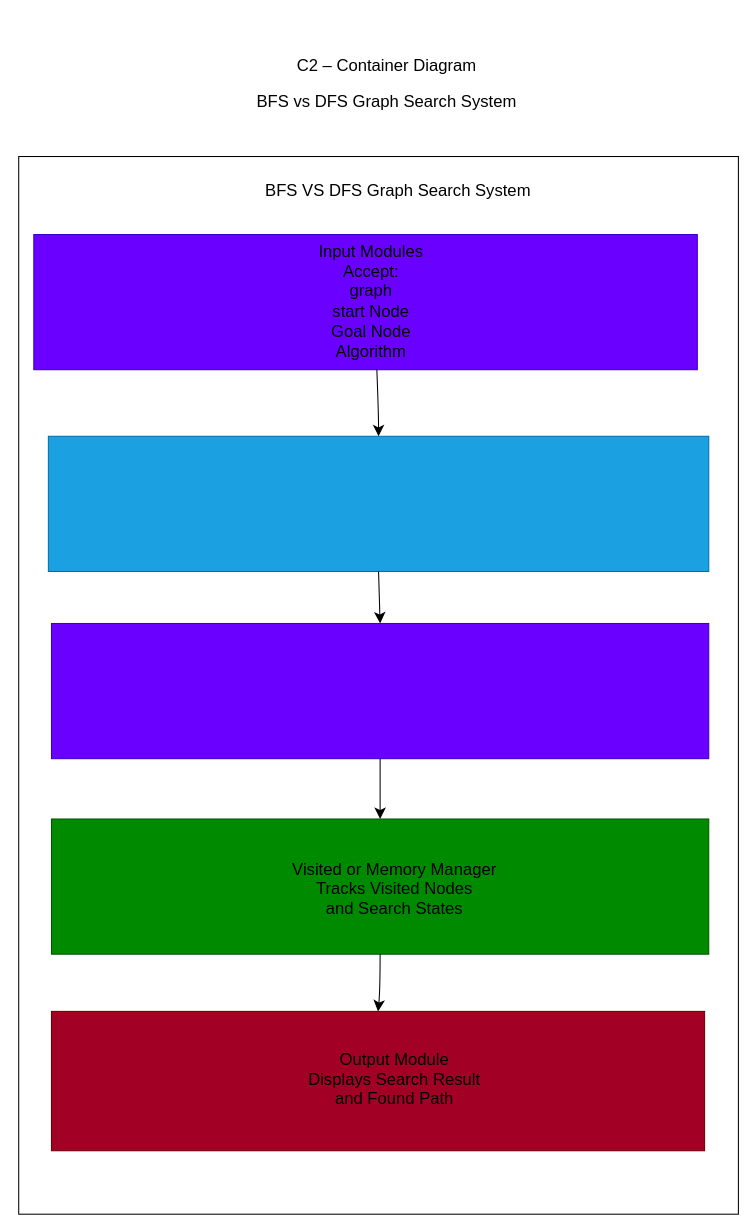
Image size: 756x1232. Some labels were removed from this diagram. Each missing label, with the centre of its shape:
"Graph Manager Stores graph Nodes&Edges" goes at (378,503).
"Search Engine performs BFS or DFS search" goes at (379,690).
